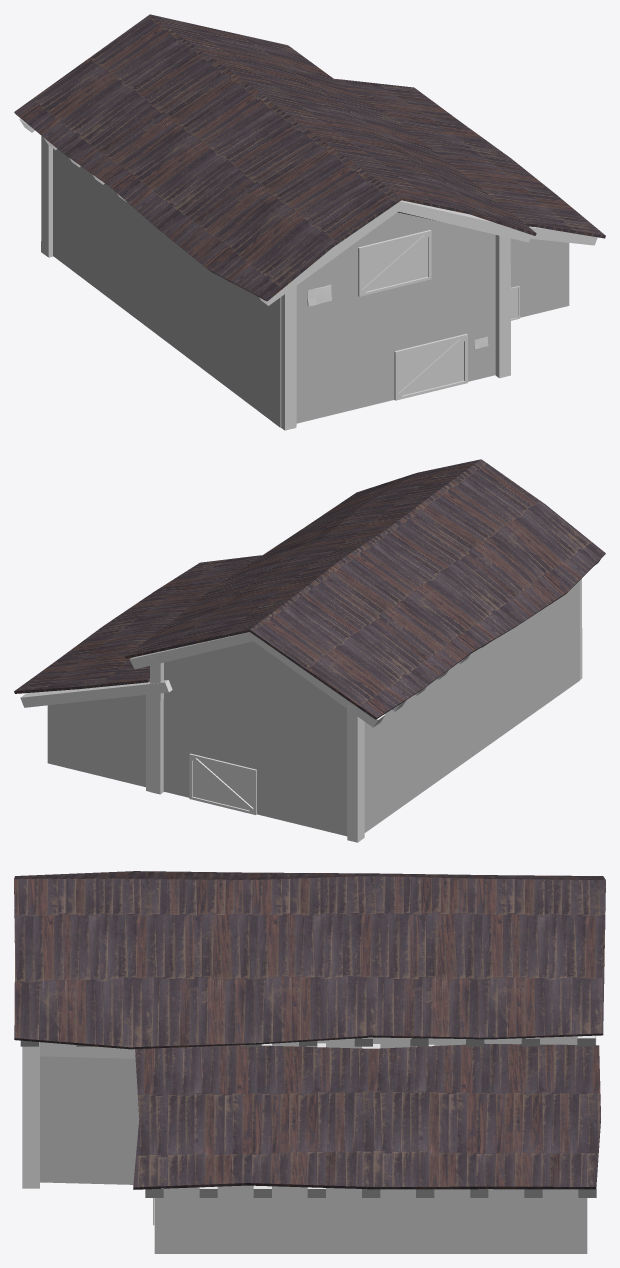
The model's file is barn.fbx.
The picture shows the model from 3 angles, top to bottom: view 1: azimuth 30°, elevation 25°; view 2: azimuth 150°, elevation 25°; view 3: azimuth 270°, elevation 25°; orthographic projection. The views are drawn at different scales.
Parts seen in each view (by area): view 1: RoofMain, Barn, BeamsBasis.002, Door, MainDoor, BeamsModifier, BeamSmallCleaned; view 2: RoofMain, Barn, BeamsBasis.002, MainDoor, BeamsModifier, BeamSmallCleaned; view 3: RoofMain, Barn, BeamsBasis.002, BeamSmallCleaned, BeamsModifier.
Boxes of the visible parts, <box> form: RoofMain: <box>14,14,605,301</box>; Barn: <box>53,148,569,427</box>; BeamsBasis.002: <box>41,136,510,430</box>; Door: <box>358,230,431,296</box>; MainDoor: <box>394,333,467,400</box>; BeamsModifier: <box>19,118,531,305</box>; BeamSmallCleaned: <box>529,226,597,245</box>; RoofMain: <box>14,459,605,719</box>; Barn: <box>47,580,579,836</box>; BeamsBasis.002: <box>149,578,582,842</box>; MainDoor: <box>189,753,256,814</box>; BeamsModifier: <box>129,559,600,727</box>; BeamSmallCleaned: <box>20,680,172,707</box>; RoofMain: <box>14,871,605,1189</box>; Barn: <box>40,1036,587,1253</box>; BeamsBasis.002: <box>22,1036,595,1188</box>; BeamSmallCleaned: <box>145,1035,596,1197</box>; BeamsModifier: <box>20,1035,595,1046</box>.
Size of the model in its own units: 39.41 by 42.54 by 19.65.
